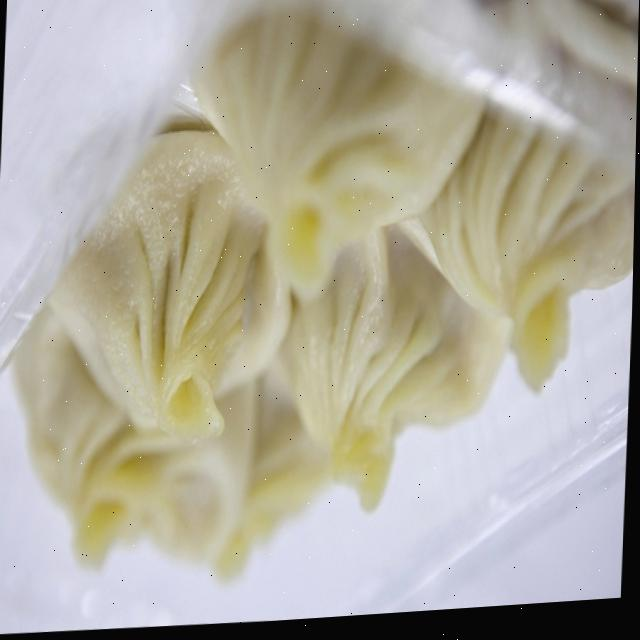带馅早点: (28, 10, 634, 610)
